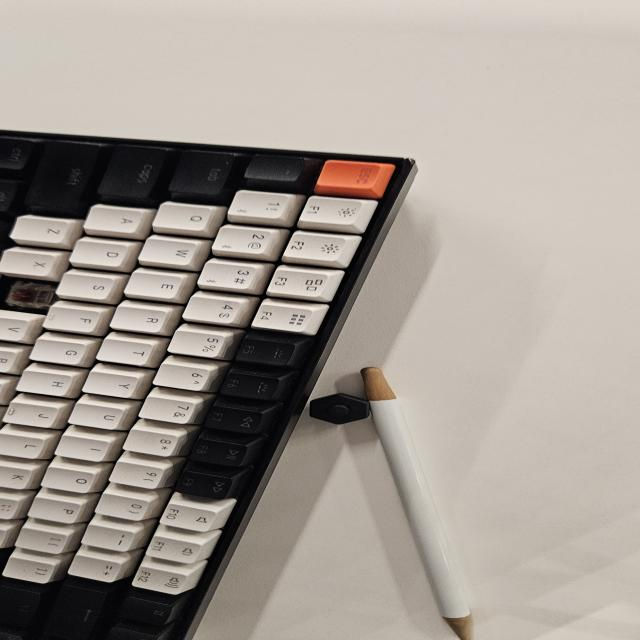C: (1, 280, 36, 308)
